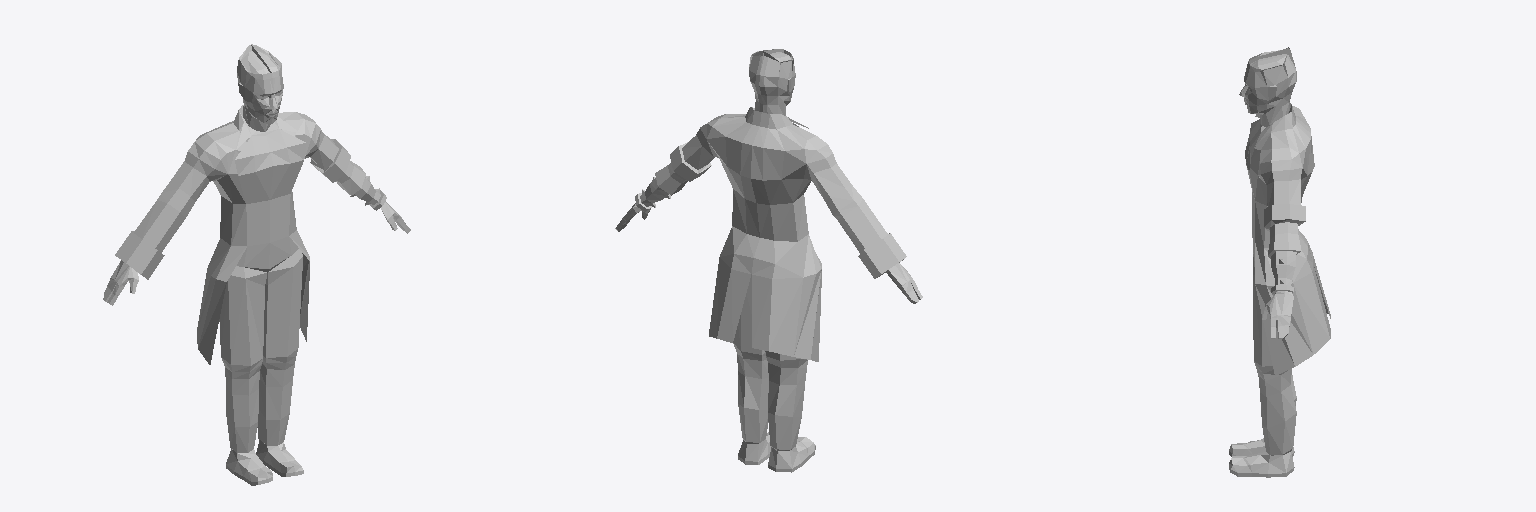
The model's file is g_char3.obj.
The picture shows the model from 3 angles: view 1: azimuth 30°, elevation 25°; view 2: azimuth 150°, elevation 25°; view 3: azimuth 270°, elevation 25°; orthographic projection.
Visible parts, largest first — view 1: Plane; view 2: Plane; view 3: Plane.
Part boxes in pixels (left/top/right/bottom): Plane: left=103, top=44, right=410, bottom=485; Plane: left=615, top=49, right=922, bottom=472; Plane: left=1229, top=47, right=1330, bottom=477.
Size of the model in its own units: 38.44 by 50.63 by 11.34.